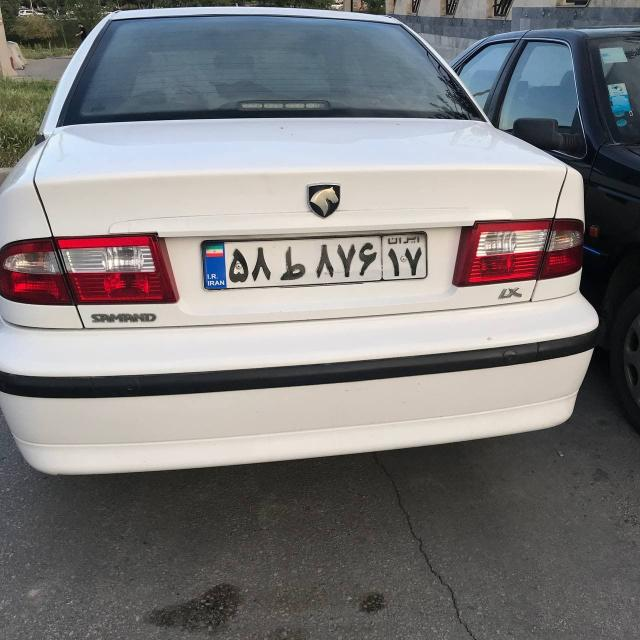Plates: (203, 230, 428, 289)
